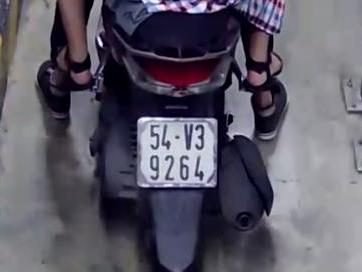num_plate: (136, 117, 218, 187)
